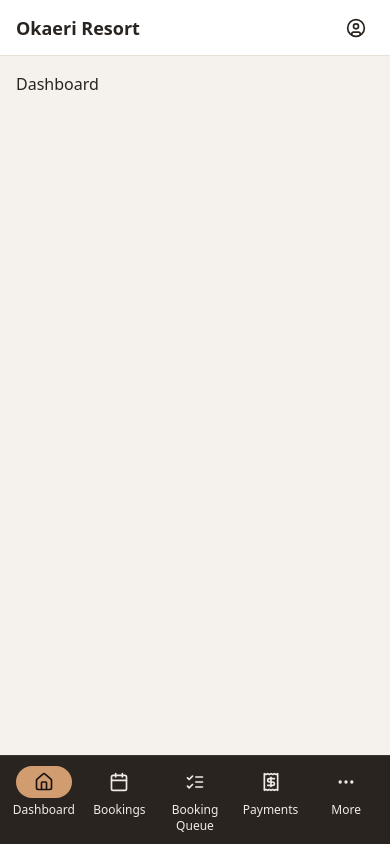
Test: AppShell, admin › opens the full destination list from More, without the actions
The width and height of the screenshot is (390, 844).
Click the button "More" at (346, 792), box [310,760,382,824]
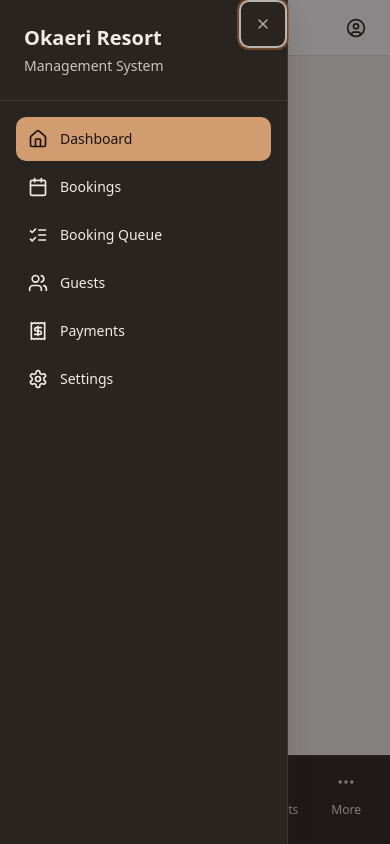
expect the links read "Dashboard", "Bookings", "Booking Queue", "Guests", "Payments", "Settings", in this order: met, box [16,117,271,161]; [28,177,121,197]; [28,225,162,245]; [28,273,105,293]; [28,321,125,341]; [28,369,113,389]
